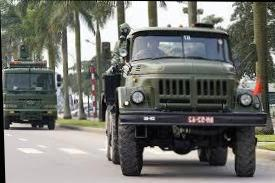License_Plate: (185, 114, 216, 124)
